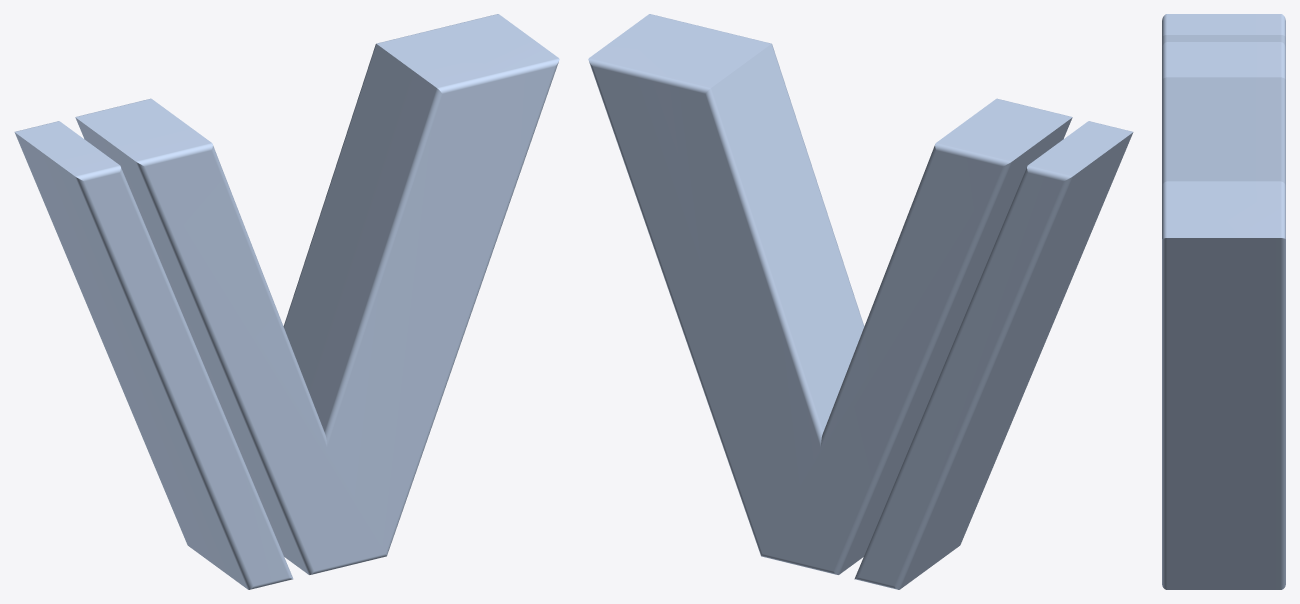
The model's file is cove3.glb.
3 renders of one model, left to right at view 1: azimuth 30°, elevation 25°; view 2: azimuth 150°, elevation 25°; view 3: azimuth 270°, elevation 25°, orthographic. The views are drawn at different scales.
Visible parts, largest first — view 1: Cove; view 2: Cove; view 3: Cove.
Part boxes in pixels (x1,y1,x2,y2): Cove: [14, 14, 559, 589]; Cove: [588, 14, 1133, 589]; Cove: [1162, 14, 1285, 589].
Bounding box in the file's own units: 17.7 × 15.92 × 4.13.
